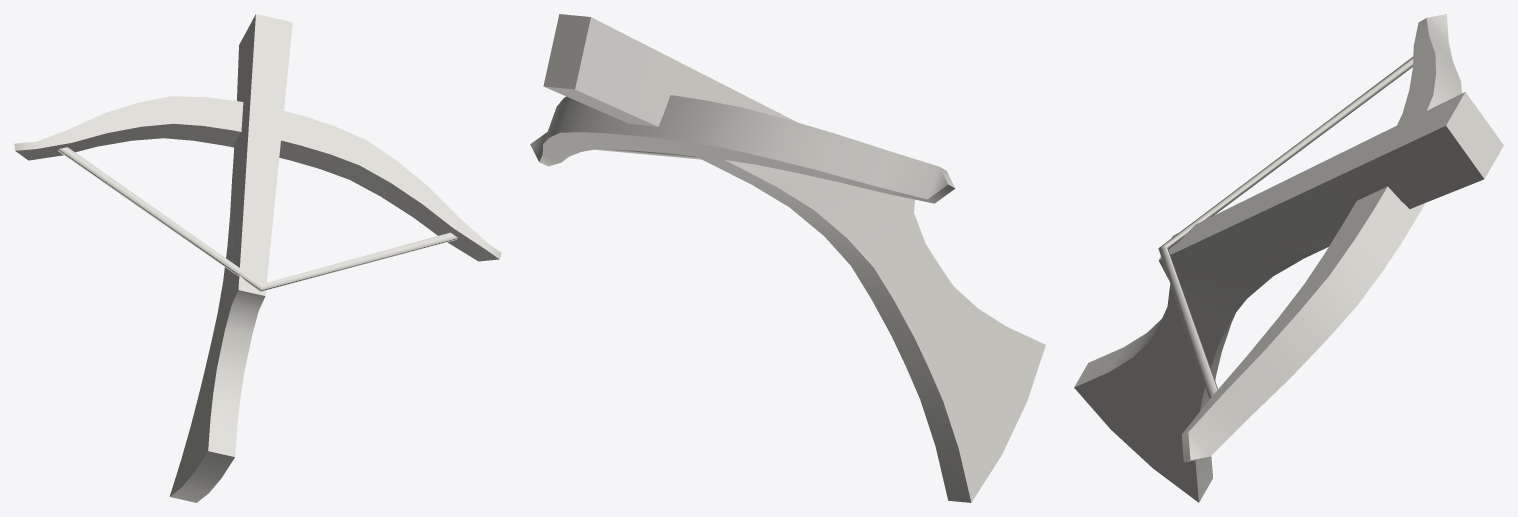
Rendered from arbalète_3d.glb.
3 views of the same model, side by side, from view 1: azimuth 30°, elevation 25°; view 2: azimuth 150°, elevation 25°; view 3: azimuth 270°, elevation 25° (orthographic). The views are drawn at different scales.
Visible parts, largest first — view 1: node_id36, node_id34; view 2: node_id36, node_id34; view 3: node_id36, node_id34.
Boxes of the visible parts, x1,y1,x2,y2 form: node_id36: (169, 14, 292, 502); node_id34: (14, 96, 501, 291); node_id36: (543, 14, 1045, 502); node_id34: (530, 95, 955, 203); node_id36: (1074, 92, 1503, 502); node_id34: (1158, 14, 1461, 462).
Bounding box in the file's own units: 0.4947 × 0.4532 × 0.3425.
Materials: 2 (2 with a texture image).
